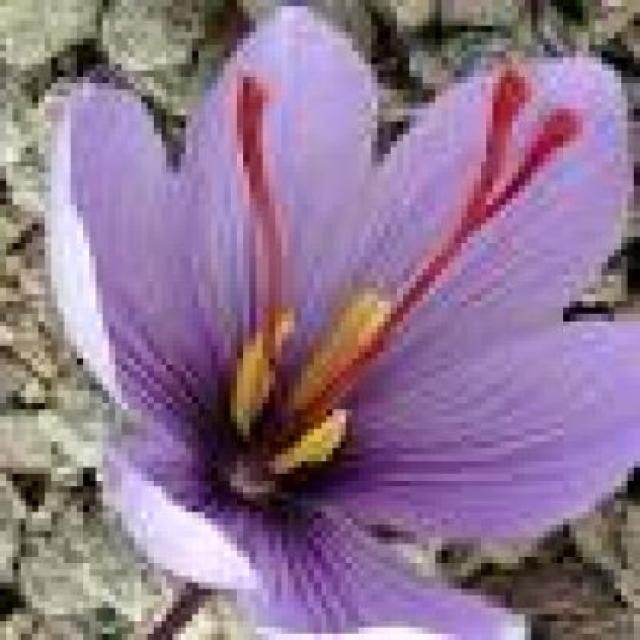saffron open: (52, 6, 620, 639)
